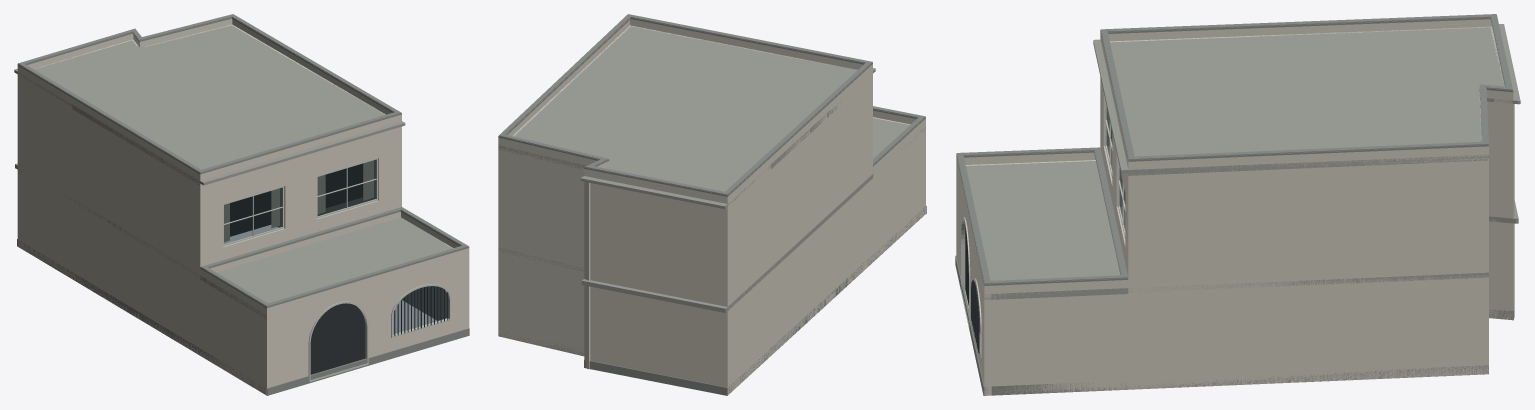
Rendered from building.glb.
3 renders of one model, left to right at view 1: azimuth 30°, elevation 25°; view 2: azimuth 150°, elevation 25°; view 3: azimuth 270°, elevation 25°, orthographic. The views are drawn at different scales.
Visible parts, largest first — view 1: house:0/edge0/z0/house:0/edge0/z0/wall_0_0, roof/house:0/roof_slab#0001, house:0/edge1/z0/house:0/edge1/z0/wall_0_0/core0, roof/garage:0/roof_slab#0001, garage:0/edge0/z0/garage:0/edge0/z0/wall_0_0, roof/house:0/parapet#0001, roof/garage:0/parapet#0001, garage:0/edge2/z0/opening_u0.79_v0.05/gate_panel#0001, roof/house:0/parapet_cap#0002, house:0/edge1/z0/opening_u4.96_v3.90/glazing#0001, house:0/edge1/z0/opening_u0.98_v3.90/glazing#0001, roof/garage:0/parapet_cap#0002 (+22 smaller); view 2: roof/house:0/roof_slab#0001, house:0/edge0/z0/house:0/edge0/z0/wall_0_0, house:0/edge5/z0/house:0/edge5/z0/wall_0_0/core0, house:0/edge3/z0/house:0/edge3/z0/wall_0_0, roof/house:0/parapet#0001, garage:0/edge0/z0/garage:0/edge0/z0/wall_0_0, roof/house:0/parapet_cap#0002, roof/house:0/parapet_cap#0001, house:0/edge5/z0/plinth#0001, house:0/edge4/z0/house:0/edge4/z0/wall_0_0, house:0/edge5/z0/floor_slab#0001, house:0/edge5/z0/top_cornice#0001 (+5 smaller); view 3: house:0/edge2/z0/house:0/edge2/z0/wall_0_0, roof/house:0/roof_slab#0001, roof/garage:0/roof_slab#0001, garage:0/edge3/z0/garage:0/edge3/z0/wall_0_0/core0, roof/house:0/parapet#0001, house:0/edge4/z0/house:0/edge4/z0/wall_0_0, roof/house:0/parapet_cap#0002, roof/garage:0/parapet_cap#0002, roof/garage:0/parapet#0001, roof/house:0/parapet_cap#0001, house:0/edge1/z0/house:0/edge1/z0/wall_0_0/core0, house:0/edge2/z0/plinth#0001 (+11 smaller).
Boxes of the visible parts, x1,y1,x2,y2 form: house:0/edge0/z0/house:0/edge0/z0/wall_0_0: [17, 72, 200, 355]; roof/house:0/roof_slab#0001: [33, 25, 385, 184]; house:0/edge1/z0/house:0/edge1/z0/wall_0_0/core0: [200, 128, 397, 266]; roof/garage:0/roof_slab#0001: [200, 217, 452, 319]; garage:0/edge0/z0/garage:0/edge0/z0/wall_0_0: [200, 275, 266, 394]; roof/house:0/parapet#0001: [17, 18, 401, 180]; roof/garage:0/parapet#0001: [200, 211, 469, 314]; garage:0/edge2/z0/opening_u0.79_v0.05/gate_panel#0001: [310, 303, 365, 374]; roof/house:0/parapet_cap#0002: [18, 14, 401, 172]; house:0/edge1/z0/opening_u4.96_v3.90/glazing#0001: [317, 160, 376, 215]; house:0/edge1/z0/opening_u0.98_v3.90/glazing#0001: [224, 188, 282, 243]; roof/garage:0/parapet_cap#0002: [201, 207, 468, 306]; roof/house:0/roof_slab#0001: [498, 26, 857, 191]; house:0/edge0/z0/house:0/edge0/z0/wall_0_0: [722, 71, 872, 395]; house:0/edge5/z0/house:0/edge5/z0/wall_0_0/core0: [590, 183, 721, 386]; house:0/edge3/z0/house:0/edge3/z0/wall_0_0: [498, 145, 586, 356]; roof/house:0/parapet#0001: [498, 19, 872, 203]; garage:0/edge0/z0/garage:0/edge0/z0/wall_0_0: [873, 126, 925, 261]; roof/house:0/parapet_cap#0002: [499, 14, 872, 194]; roof/house:0/parapet_cap#0001: [498, 17, 872, 196]; house:0/edge5/z0/plinth#0001: [584, 359, 727, 395]; house:0/edge4/z0/house:0/edge4/z0/wall_0_0: [584, 176, 590, 369]; house:0/edge5/z0/floor_slab#0001: [581, 279, 727, 312]; house:0/edge5/z0/top_cornice#0001: [580, 176, 727, 209]; house:0/edge2/z0/house:0/edge2/z0/wall_0_0: [1127, 154, 1488, 389]; roof/house:0/roof_slab#0001: [1110, 26, 1504, 175]; roof/garage:0/roof_slab#0001: [966, 161, 1128, 299]; garage:0/edge3/z0/garage:0/edge3/z0/wall_0_0/core0: [991, 290, 1128, 394]; roof/house:0/parapet#0001: [1100, 19, 1513, 169]; house:0/edge4/z0/house:0/edge4/z0/wall_0_0: [1487, 99, 1514, 320]; roof/house:0/parapet_cap#0002: [1101, 14, 1512, 159]; roof/garage:0/parapet_cap#0002: [957, 147, 1127, 284]; roof/garage:0/parapet#0001: [956, 152, 1128, 294]; roof/house:0/parapet_cap#0001: [1100, 14, 1513, 161]; house:0/edge1/z0/house:0/edge1/z0/wall_0_0/core0: [1100, 77, 1127, 273]; house:0/edge2/z0/plinth#0001: [1129, 365, 1488, 389].
Size of the model in its own units: 9.96 by 7.02 by 15.62.
